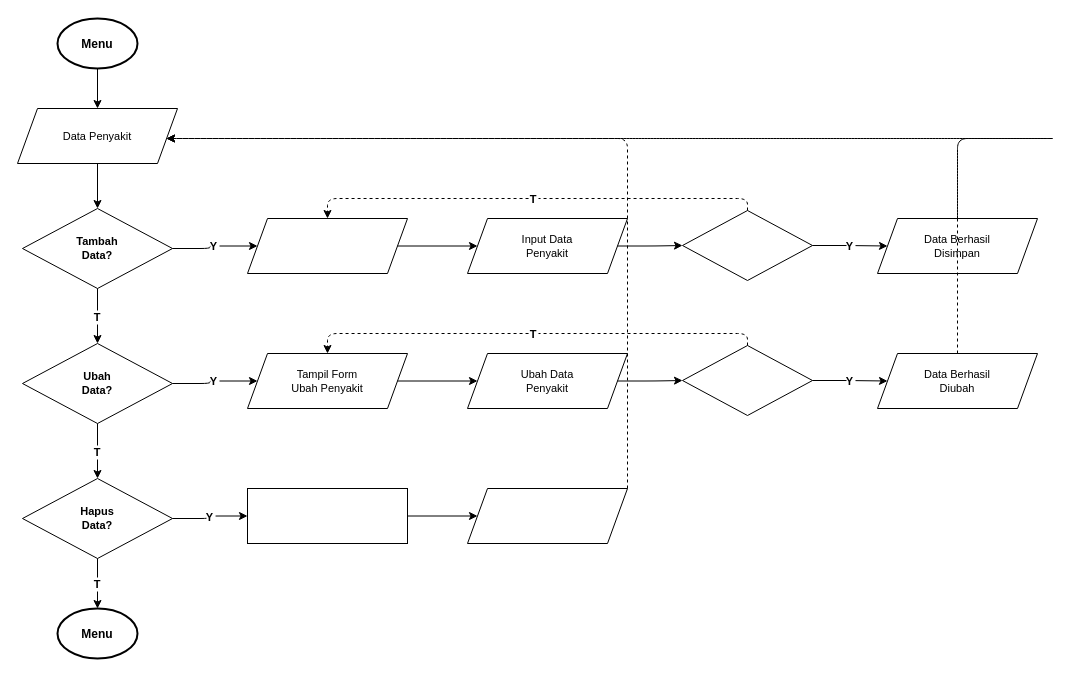
Image size: 1083x676. Some labels were removed from this diagram. Each missing label, with the centre of its shape:
"Data Penyakit Dihapus" goes at pixel 547 516.
"Simpan?" goes at pixel 747 245.
"Tampil Form Tambah Penyakit" goes at pixel 327 246.
"Tampil Pesan Konfirmasi Hapus" goes at pixel 327 516.
"Ubah?" goes at pixel 747 380.
